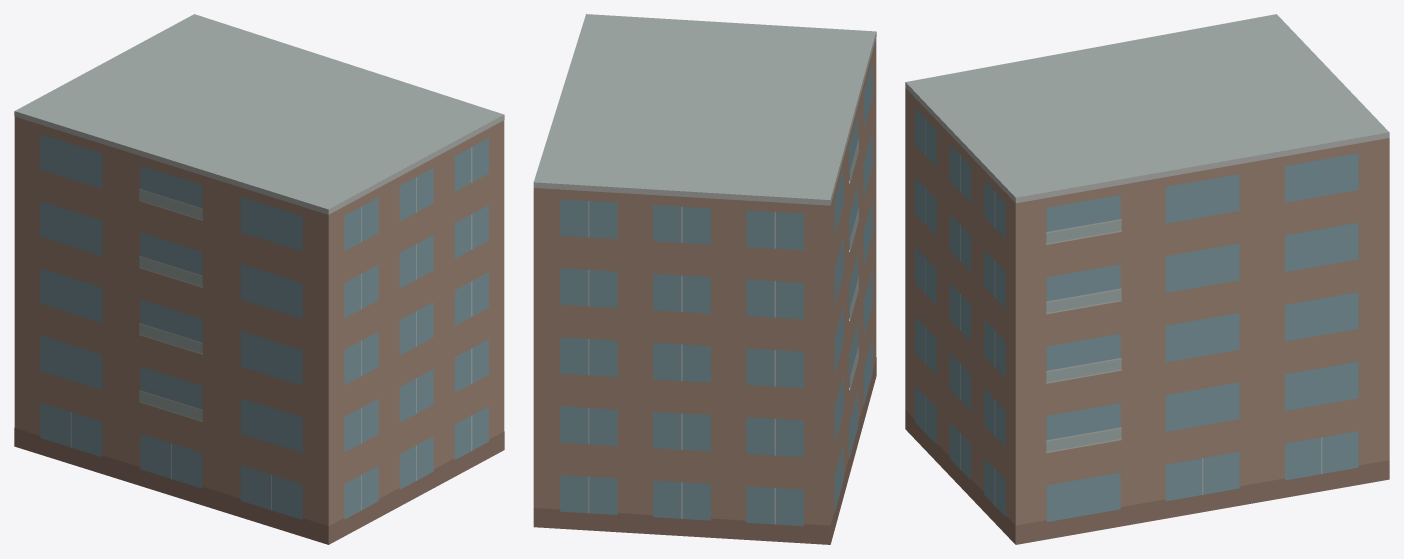
Rendered from survey-upis-32719344.glb.
The picture shows the model from 3 angles, left to right: view 1: azimuth 30°, elevation 25°; view 2: azimuth 150°, elevation 25°; view 3: azimuth 270°, elevation 25°; orthographic projection. The views are drawn at different scales.
Parts seen in each view (by area): view 1: survey-upis-32719344.tmp; view 2: survey-upis-32719344.tmp; view 3: survey-upis-32719344.tmp.
Part boxes in pixels (bbox=[...]): survey-upis-32719344.tmp: bbox=[14, 14, 504, 544]; survey-upis-32719344.tmp: bbox=[533, 14, 876, 544]; survey-upis-32719344.tmp: bbox=[905, 14, 1389, 544].
Size of the model in its own units: 17.27 by 15.2 by 19.22.
